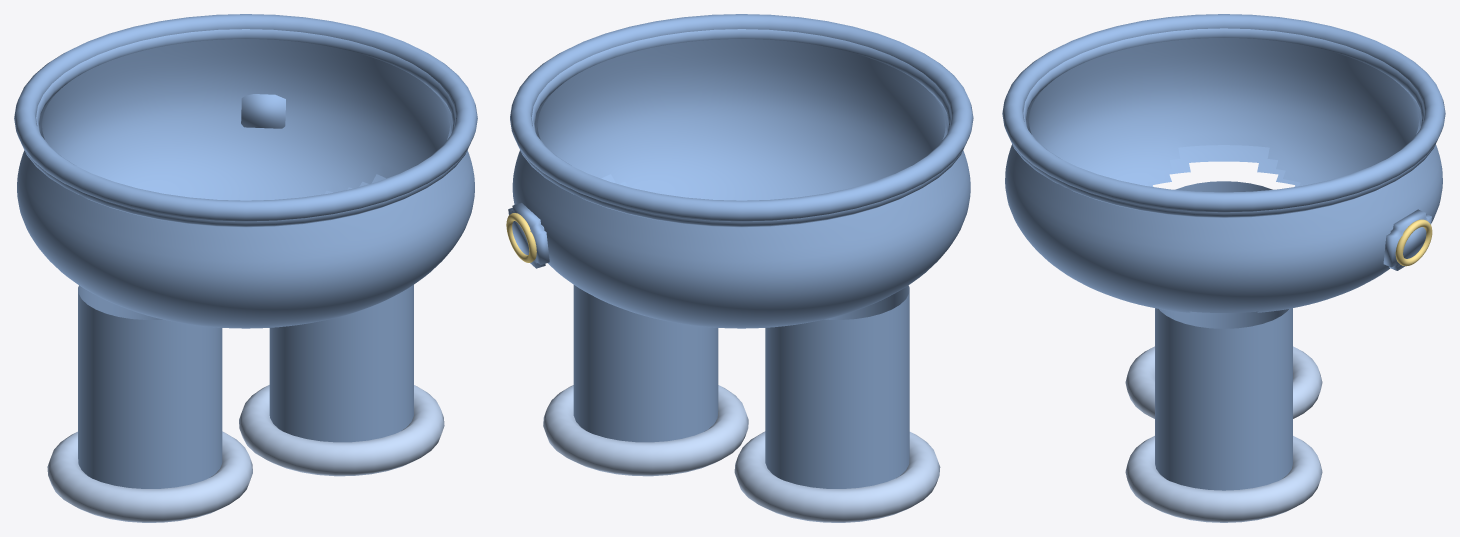
The model's file is overalls.glb.
3 views of the same model, side by side, from view 1: azimuth 30°, elevation 25°; view 2: azimuth 150°, elevation 25°; view 3: azimuth 270°, elevation 25° (orthographic). The views are drawn at different scales.
Visible parts, largest first — view 1: BodyGirl, BodyBoy, LegL, LegR; view 2: BodyGirl, BodyBoy, LegL, LegR; view 3: BodyGirl, BodyBoy, LegR, LegL.
Part boxes in pixels (x1,y1,x2,y2): BodyGirl: [14, 14, 477, 328]; BodyBoy: [24, 29, 467, 227]; LegL: [47, 285, 252, 522]; LegR: [239, 285, 444, 476]; BodyGirl: [506, 14, 973, 328]; BodyBoy: [520, 29, 962, 227]; LegL: [734, 285, 940, 522]; LegR: [543, 285, 748, 476]; BodyGirl: [1002, 14, 1445, 312]; BodyBoy: [1012, 28, 1435, 217]; LegR: [1125, 308, 1322, 522]; LegL: [1125, 181, 1322, 418].
Size of the model in its own units: 0.4616 by 0.387 by 0.4616.
